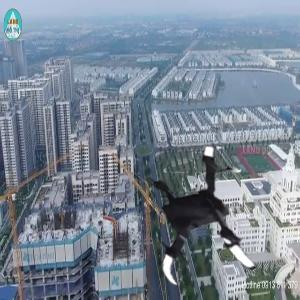drone: (120, 132, 282, 294)
